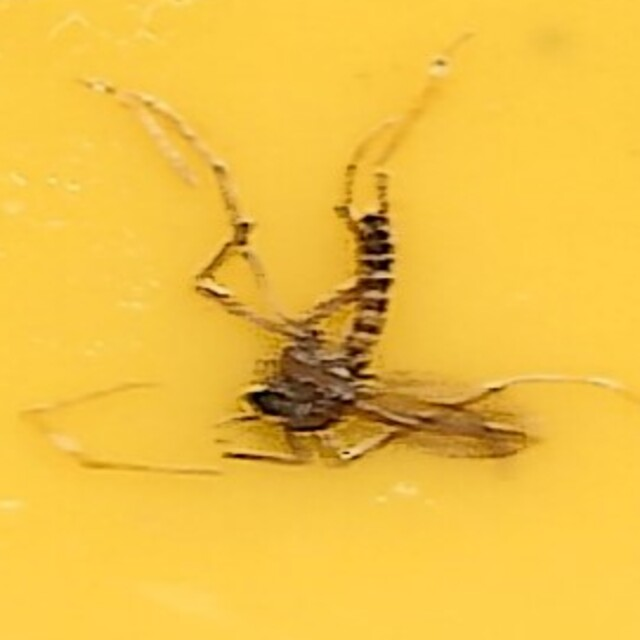Nematocera: (236, 200, 404, 440)
